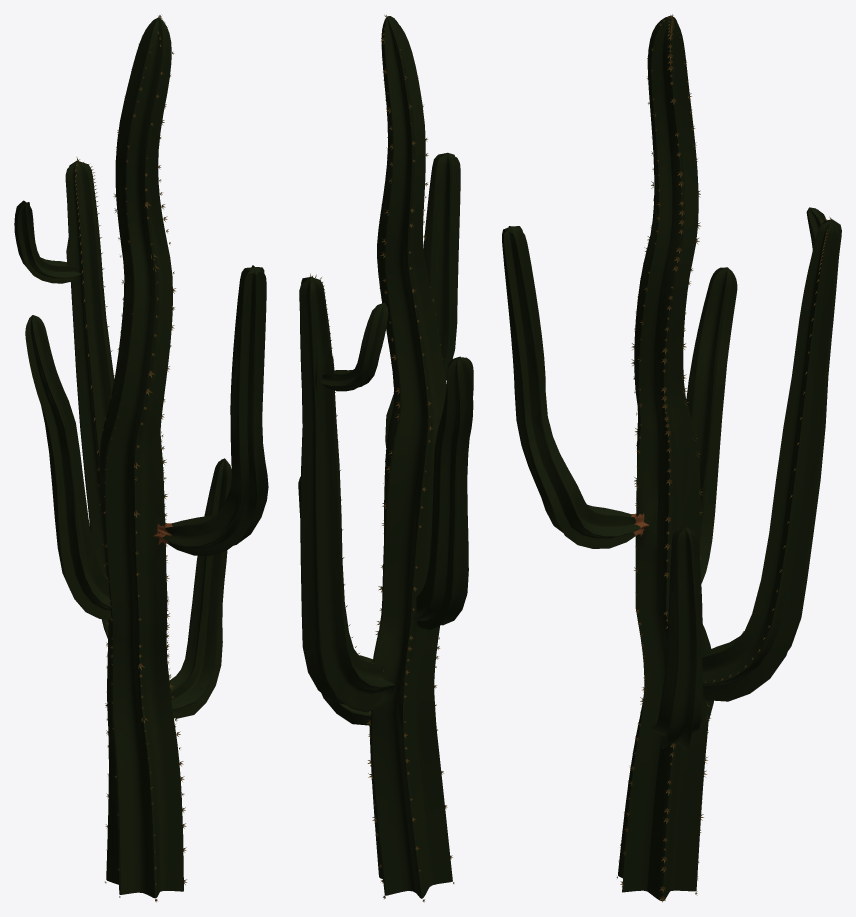
The model's file is Кактус.FBX.
The picture shows the model from 3 angles, left to right: view 1: azimuth 30°, elevation 25°; view 2: azimuth 150°, elevation 25°; view 3: azimuth 270°, elevation 25°; orthographic projection. The views are drawn at different scales.
Visible parts, largest first — view 1: NGon15; view 2: NGon15; view 3: NGon15.
Part boxes in pixels (bbox=[...]): NGon15: bbox=[14, 15, 268, 902]; NGon15: bbox=[298, 15, 473, 902]; NGon15: bbox=[502, 14, 841, 902].
Size of the model in its own units: 3883 by 17212 by 5980.
